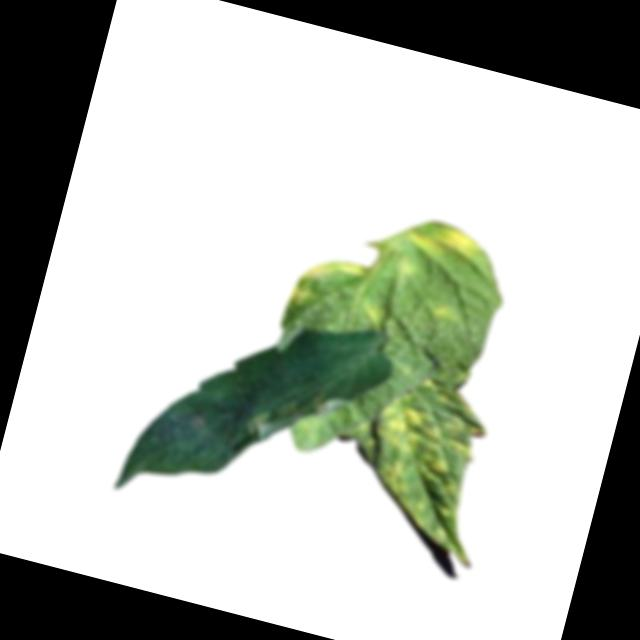Leaf_Mold: (350, 384, 492, 552), (242, 367, 349, 458), (288, 249, 368, 320), (407, 216, 485, 270), (426, 297, 457, 326), (364, 302, 388, 328)
